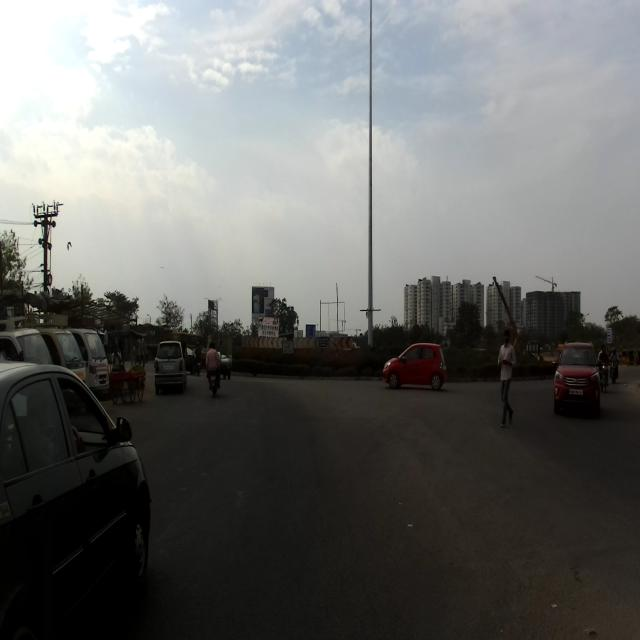car ahead at: (0, 348, 152, 640), (549, 330, 603, 424)
person ahead at: (492, 330, 523, 435)
